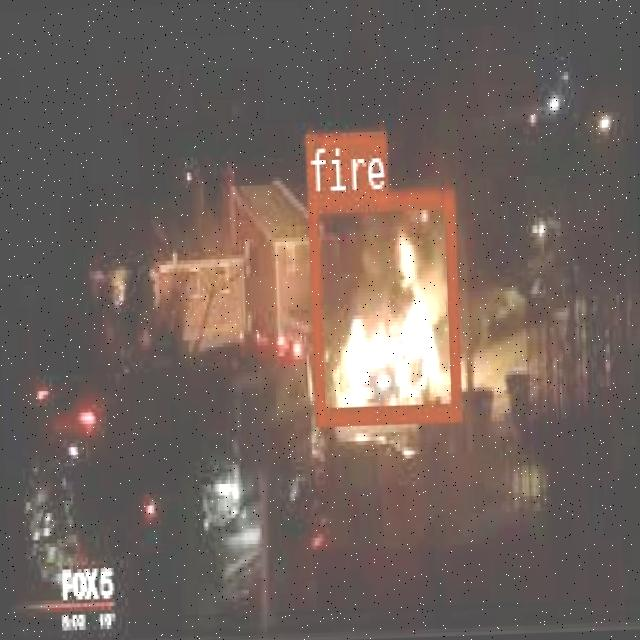fire: (306, 188, 459, 422)
